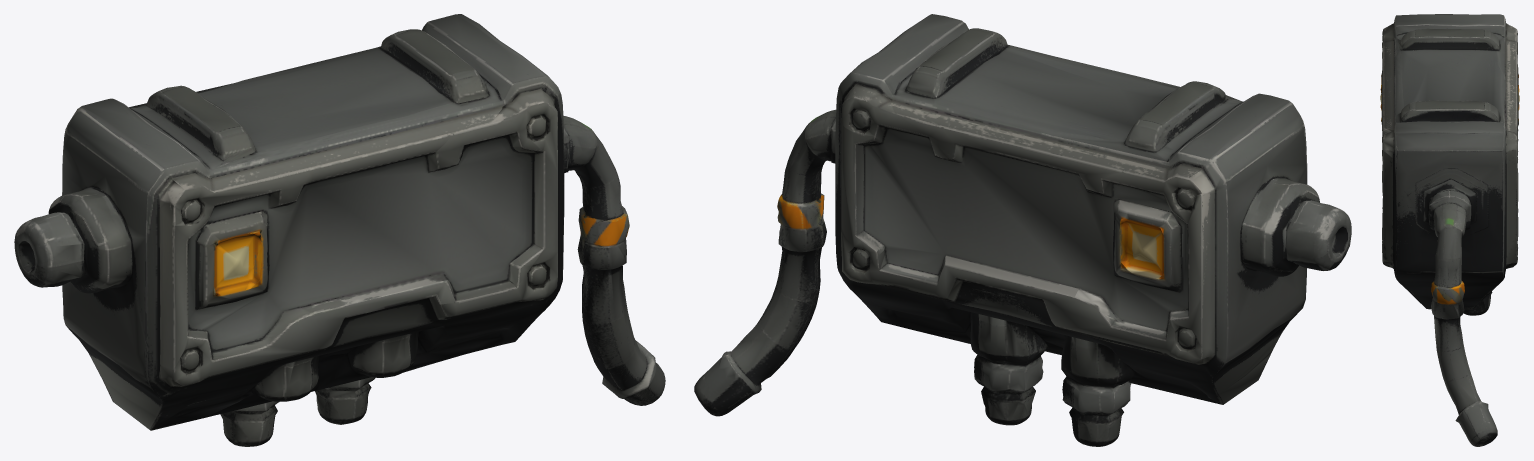
Rendered from 18_debris_utility_box.fbx.
3 views of the same model, side by side, from view 1: azimuth 30°, elevation 25°; view 2: azimuth 150°, elevation 25°; view 3: azimuth 270°, elevation 25° (orthographic). The views are drawn at different scales.
Visible parts, largest first — view 1: 18_debris_utility_box; view 2: 18_debris_utility_box; view 3: 18_debris_utility_box.
Part boxes in pixels (x1,y1,x2,y2): 18_debris_utility_box: (14,14,665,446); 18_debris_utility_box: (694,14,1351,446); 18_debris_utility_box: (1380,14,1519,446).
Bounding box in the file's own units: 0.8 × 0.4947 × 0.231.
1 material, 1 textured.
